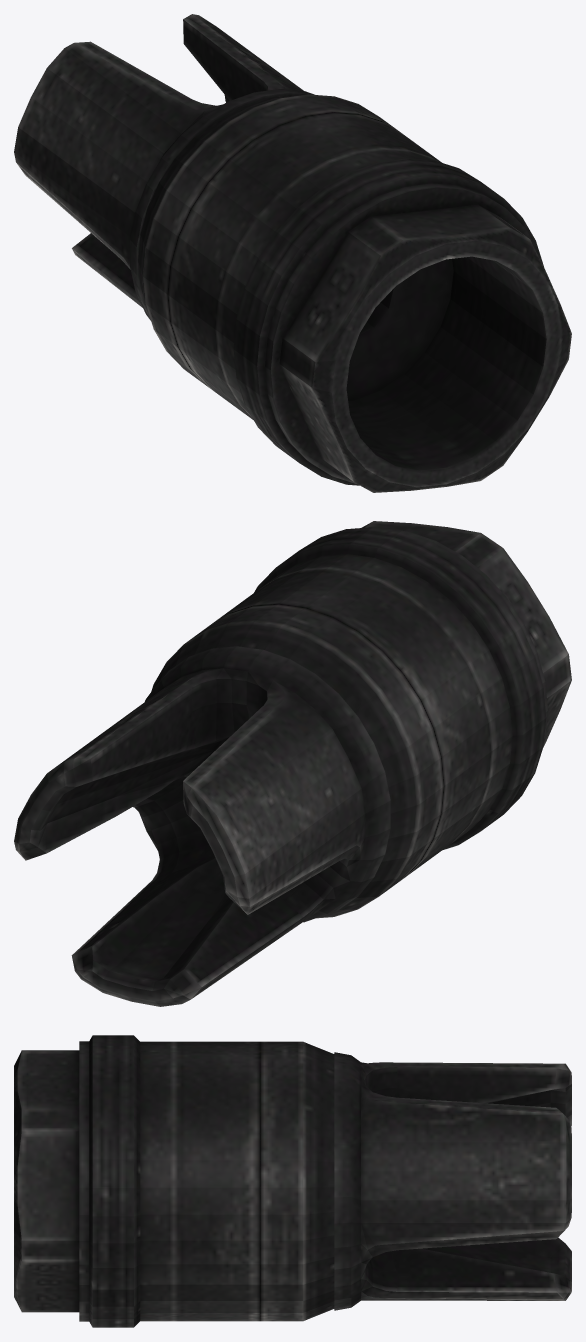
3 renders of one model, top to bottom at view 1: azimuth 30°, elevation 25°; view 2: azimuth 150°, elevation 25°; view 3: azimuth 270°, elevation 25°, orthographic. The views are drawn at different scales.
Parts seen in each view (by area): view 1: TW_6529113b5ae2ae97b80fdf39_PZ_Import; view 2: TW_6529113b5ae2ae97b80fdf39_PZ_Import; view 3: TW_6529113b5ae2ae97b80fdf39_PZ_Import.
Part boxes in pixels (x1=…): TW_6529113b5ae2ae97b80fdf39_PZ_Import: x1=14, y1=14, x2=571, y2=492; TW_6529113b5ae2ae97b80fdf39_PZ_Import: x1=14, y1=521, x2=571, y2=1006; TW_6529113b5ae2ae97b80fdf39_PZ_Import: x1=14, y1=1035, x2=571, y2=1327.
Size of the model in its own units: 0.0149 by 0.0283 by 0.0149.
1 material, 1 textured.
